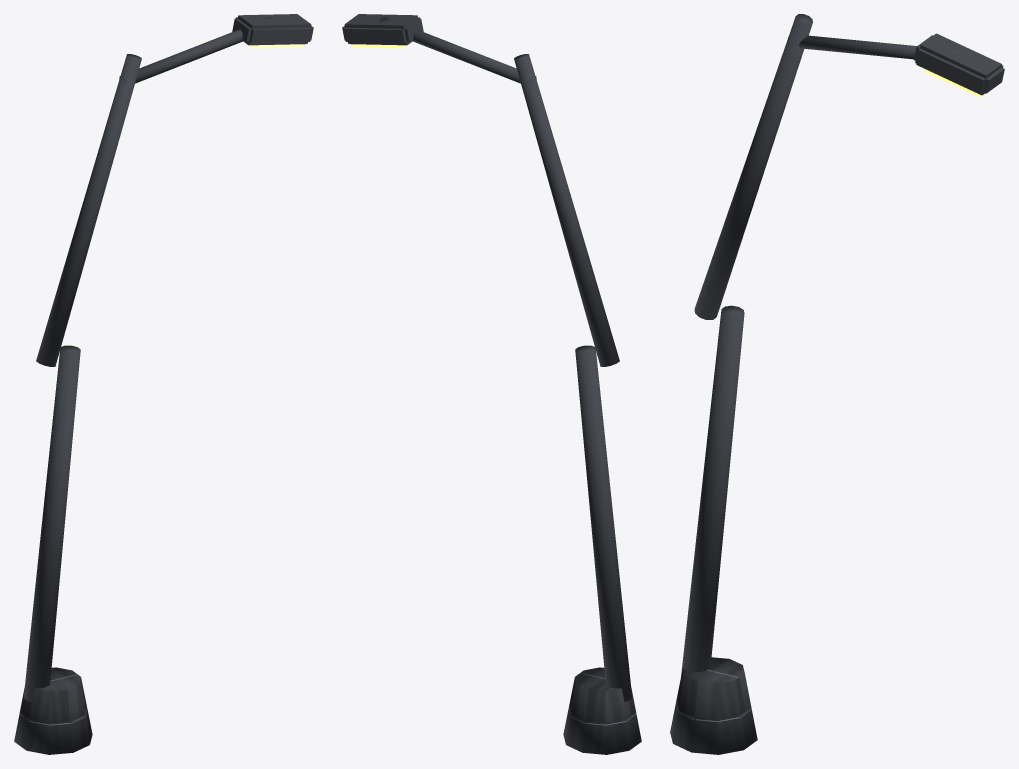
Rendered from streetlight_broken.glb.
The picture shows the model from 3 angles, left to right: view 1: azimuth 30°, elevation 25°; view 2: azimuth 150°, elevation 25°; view 3: azimuth 330°, elevation 25°; orthographic projection. The views are drawn at different scales.
Parts seen in each view (by area): view 1: PoleLower, PoleUpper, PoleBase, LampHead, LampArm; view 2: PoleLower, PoleUpper, PoleBase, LampHead, LampArm; view 3: PoleLower, PoleUpper, PoleBase, LampHead, LampArm.
Part boxes in pixels (x1,y1,x2,y2): PoleLower: (23, 345, 80, 701); PoleUpper: (36, 54, 141, 366); PoleBase: (14, 667, 92, 754); LampHead: (232, 14, 313, 45); LampArm: (119, 17, 276, 83); PoleLower: (575, 345, 632, 701); PoleUpper: (514, 54, 619, 366); PoleBase: (563, 667, 641, 754); LampHead: (342, 14, 423, 45); LampArm: (379, 17, 536, 83); PoleLower: (681, 305, 744, 676); PoleUpper: (694, 14, 812, 319); PoleBase: (670, 657, 757, 754); LampHead: (913, 33, 1004, 95); LampArm: (787, 35, 962, 59).
Size of the model in its own units: 2.8 by 6.27 by 0.68.
Materials: 3 (1 with a texture image).
